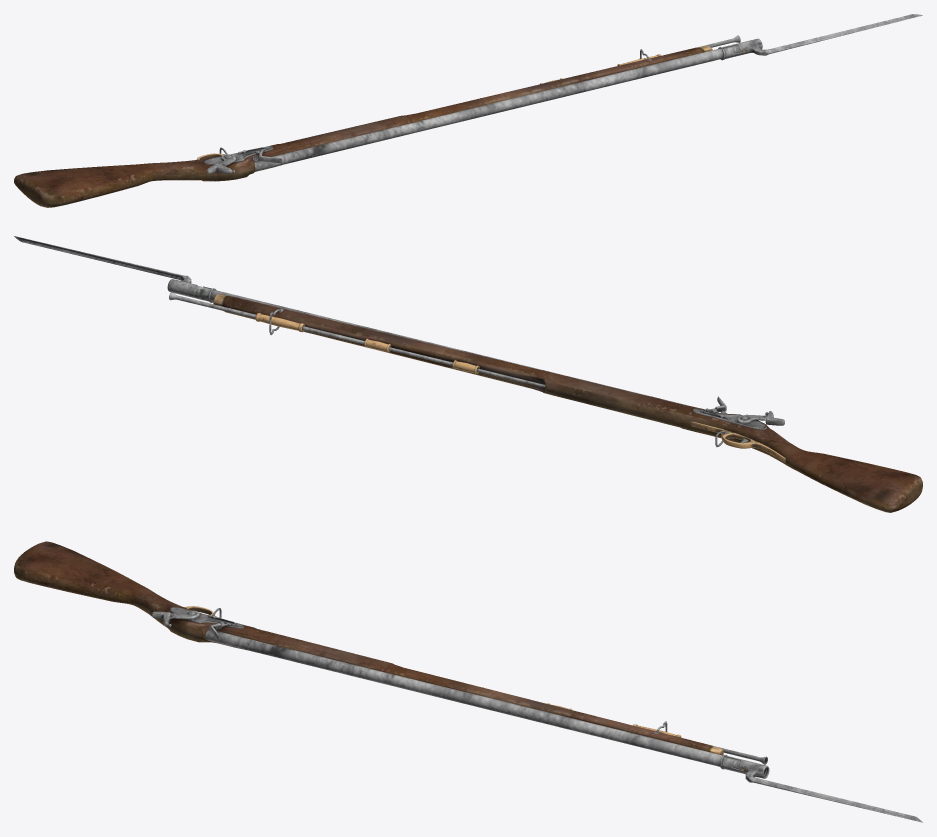
The model's file is s_mosquete.glb.
3 renders of one model, top to bottom at view 1: azimuth 30°, elevation 25°; view 2: azimuth 150°, elevation 25°; view 3: azimuth 330°, elevation 25°, orthographic. The views are drawn at different scales.
Parts seen in each view (by area): view 1: defaultMaterial; view 2: defaultMaterial; view 3: defaultMaterial.
Part boxes in pixels (bbox=[...]): defaultMaterial: bbox=[14, 14, 922, 207]; defaultMaterial: bbox=[14, 236, 922, 512]; defaultMaterial: bbox=[14, 541, 922, 822].
Size of the model in its own units: 1.5 by 0.0385 by 0.1793.
Materials: 1 (1 with a texture image).
